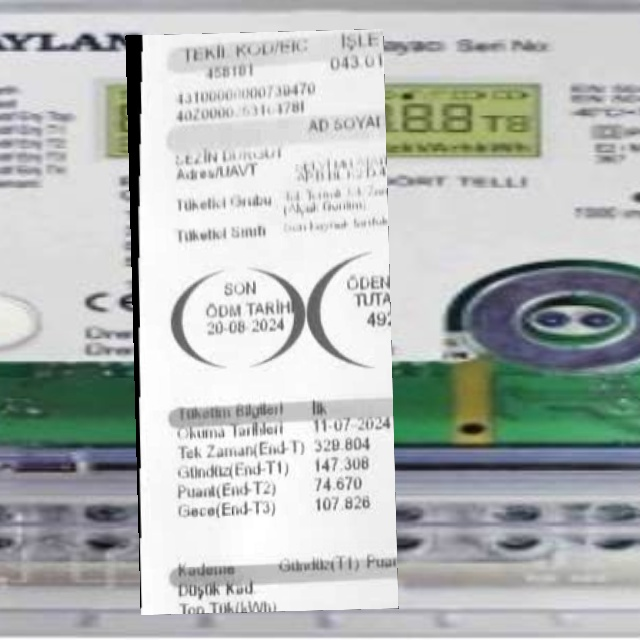electricity-bill: (125, 29, 399, 615)
